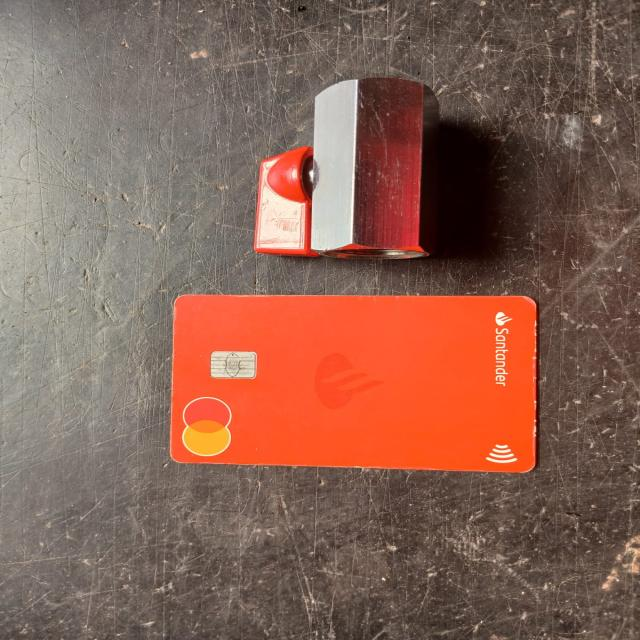cartao: (172, 295, 535, 473)
rosca_interna: (255, 78, 438, 260)
